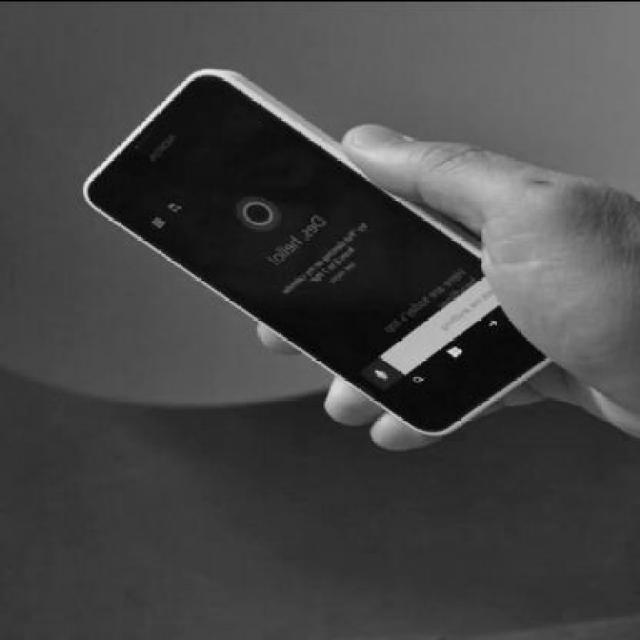fake: (81, 70, 567, 441)
